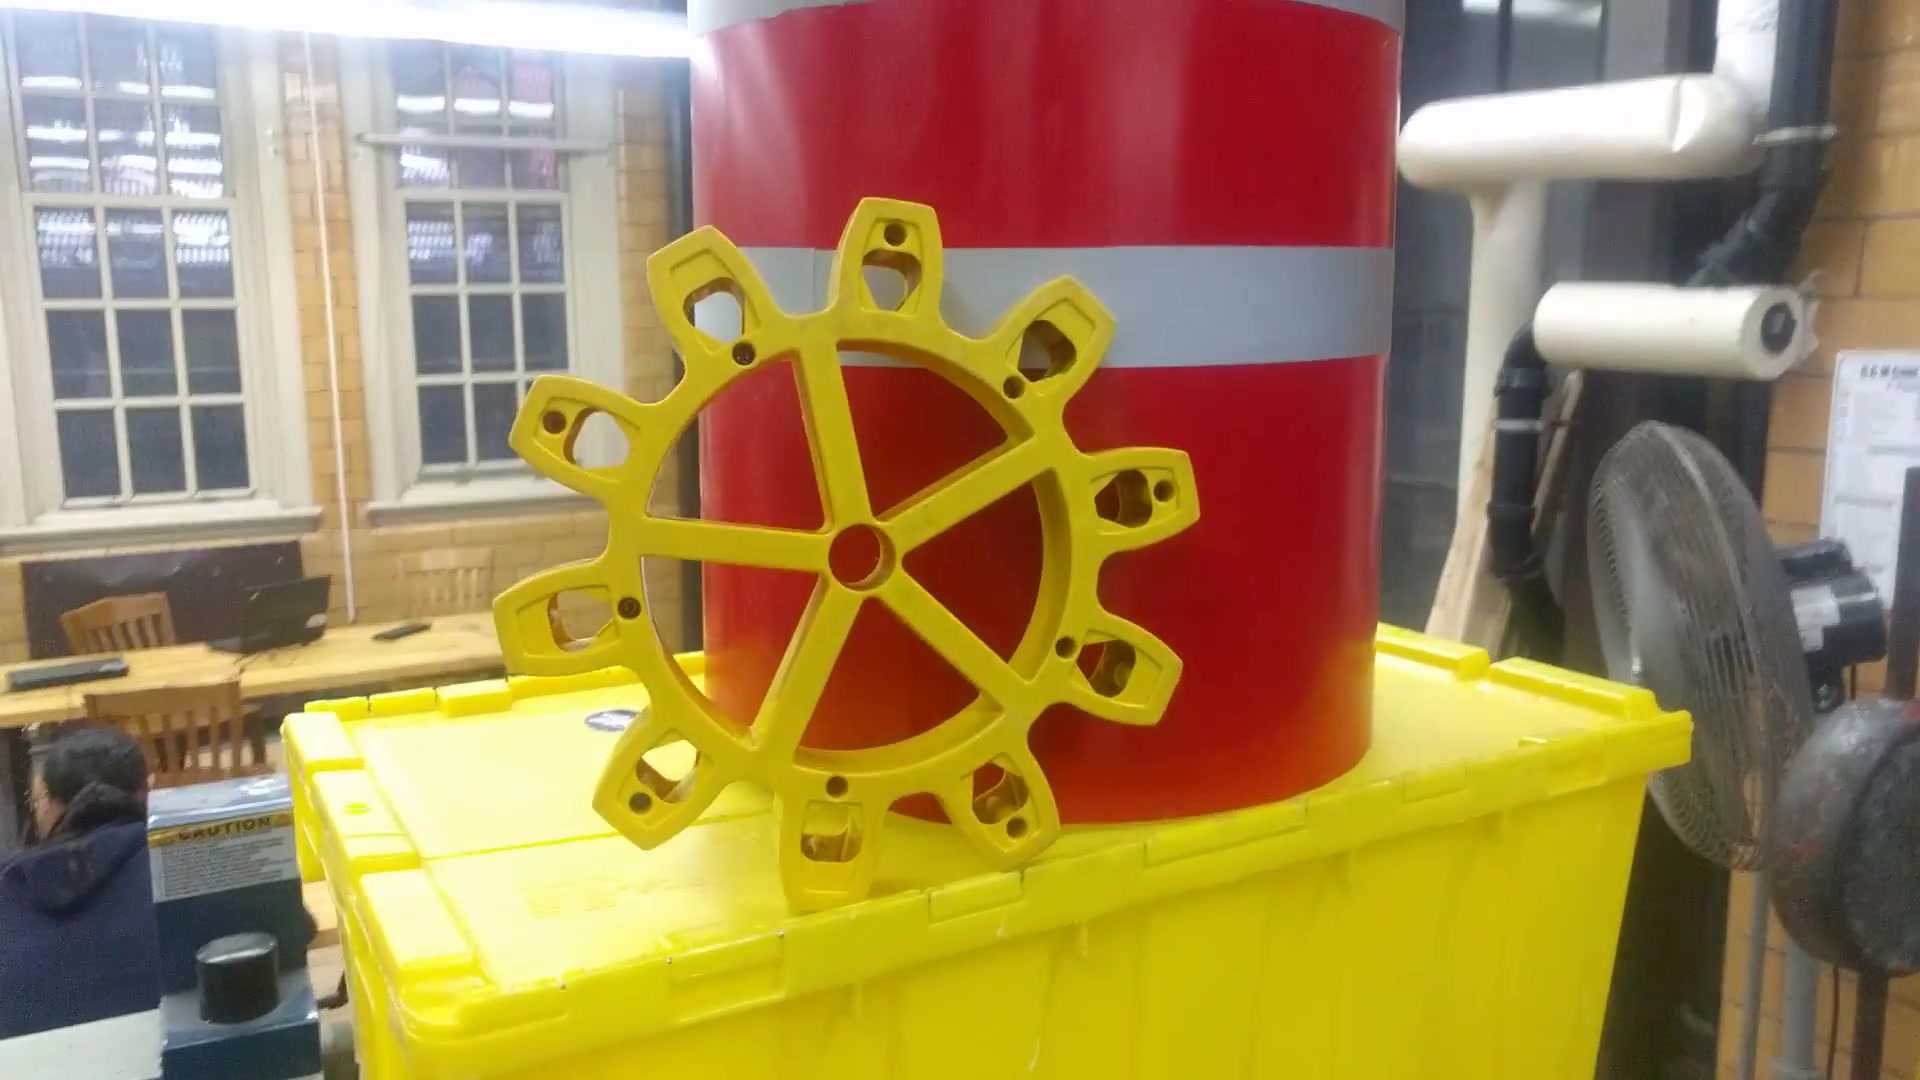gear: (484, 185, 1218, 916)
